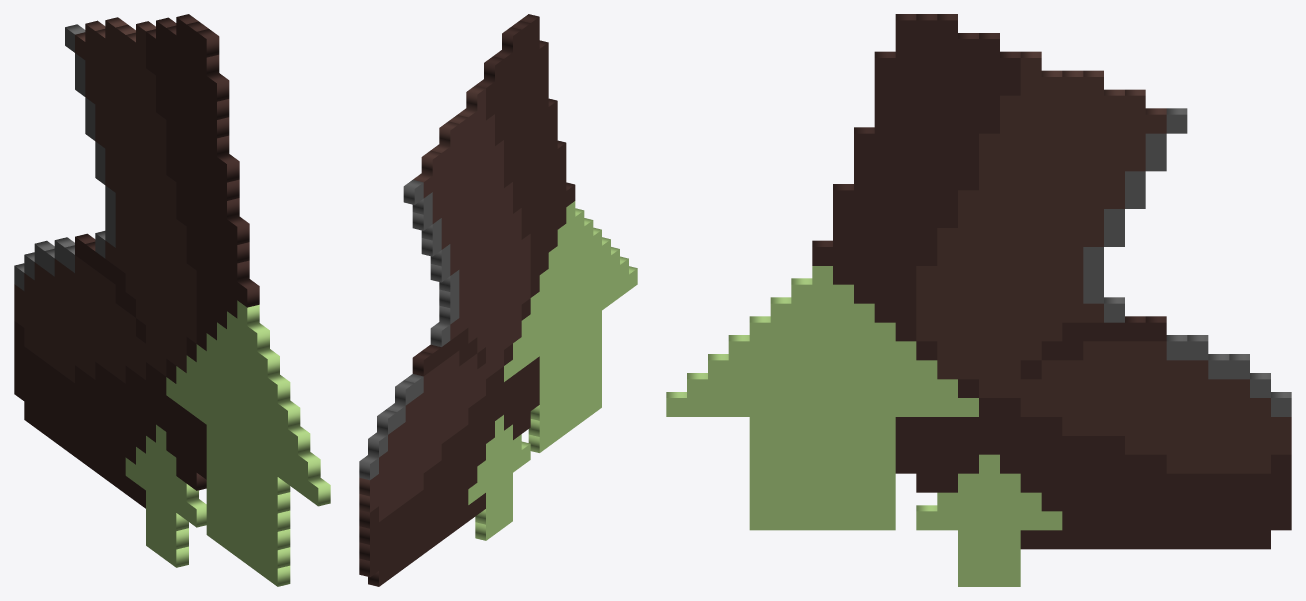
File: JumpHeight.fbx
3 views of the same model, side by side, from view 1: azimuth 30°, elevation 25°; view 2: azimuth 150°, elevation 25°; view 3: azimuth 270°, elevation 25° (orthographic). The views are drawn at different scales.
Visible parts, largest first — view 1: Curve.008; view 2: Curve.008; view 3: Curve.008.
Boxes of the visible parts, x1,y1,x2,y2 form: Curve.008: (14, 14, 330, 586); Curve.008: (359, 14, 637, 586); Curve.008: (666, 14, 1291, 586).
Bounding box in the file's own units: 2 × 84.65 × 84.67.
